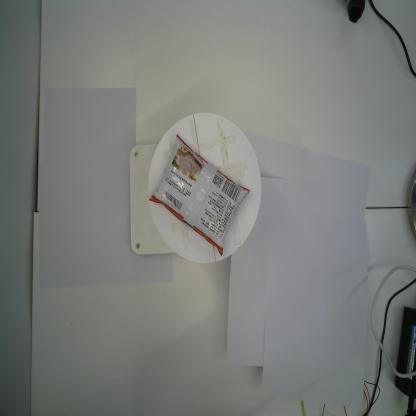Seasoner: (148, 132, 250, 262)
